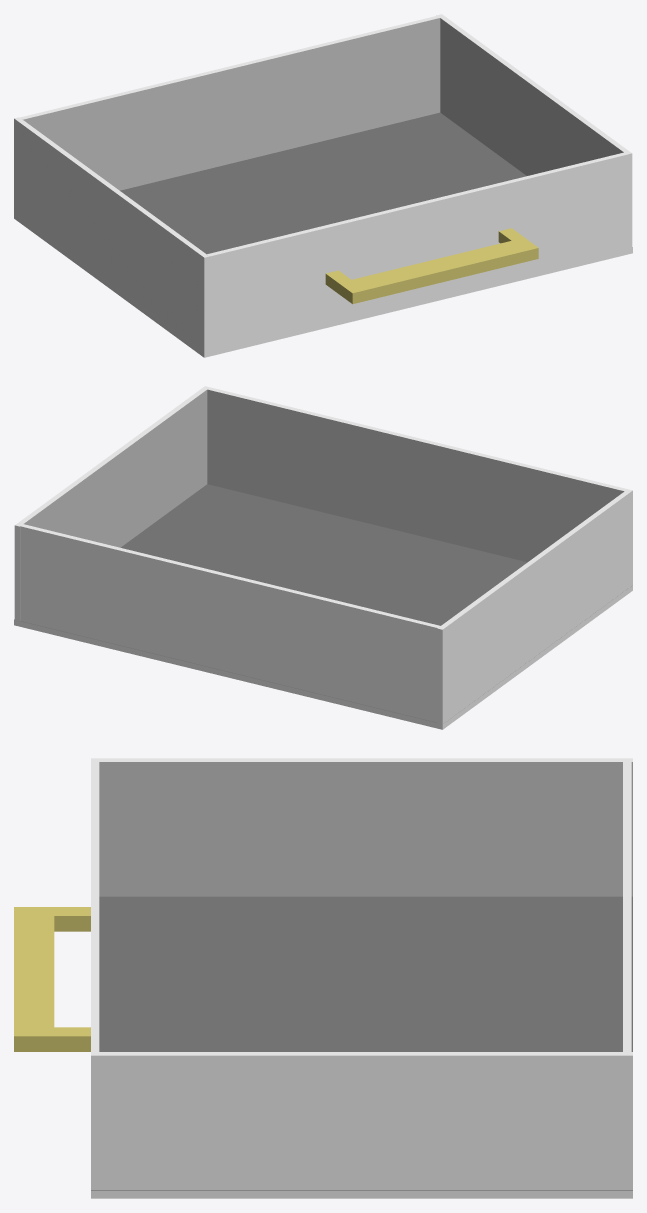
Rendered from drawer.obj.
3 views of the same model, one above another, from view 1: azimuth 30°, elevation 25°; view 2: azimuth 150°, elevation 25°; view 3: azimuth 270°, elevation 25° (orthographic). The views are drawn at different scales.
Visible parts, largest first — view 1: polySurface11; view 2: polySurface11; view 3: polySurface11.
Boxes of the visible parts, x1=… form: polySurface11: x1=14, y1=14, x2=632, y2=357; polySurface11: x1=14, y1=386, x2=632, y2=729; polySurface11: x1=14, y1=758, x2=632, y2=1198.
Bounding box in the file's own units: 0.8613 × 0.1922 × 0.7563.
4 materials, 4 textured.
